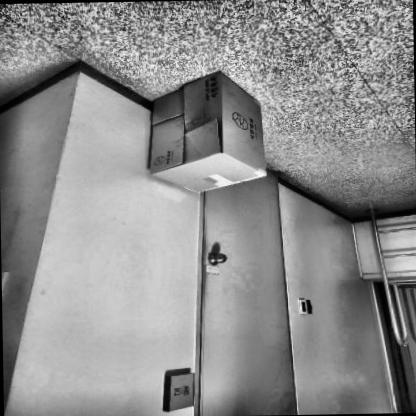box: (141, 68, 276, 200)
